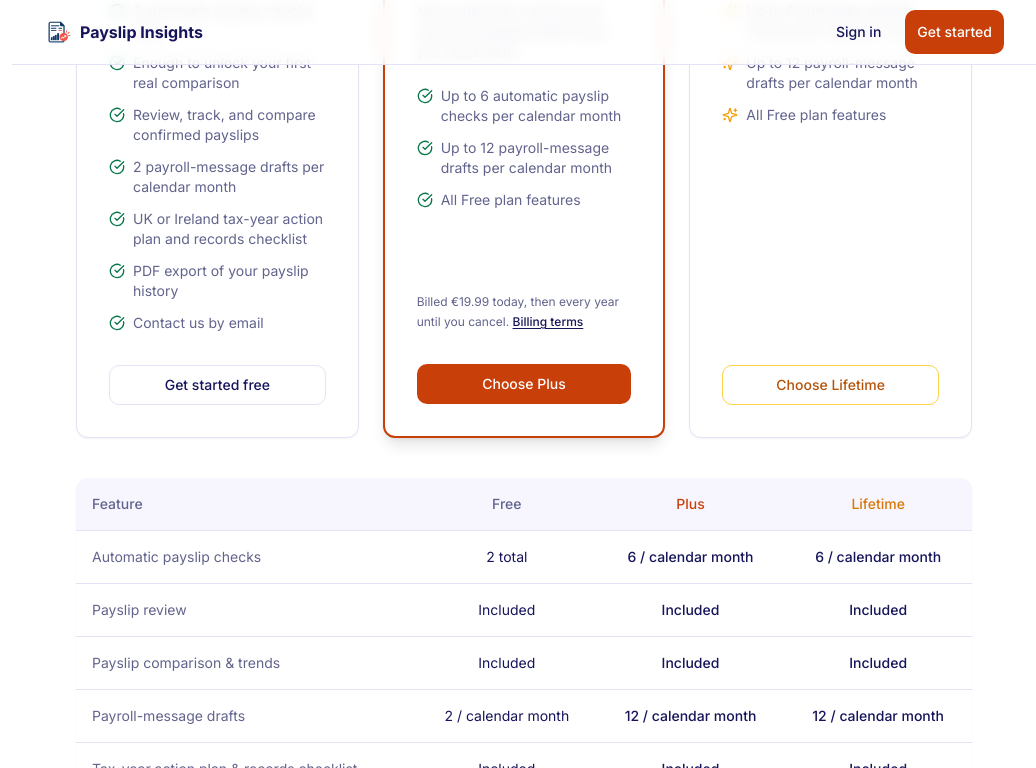
Scenario: Pricing › keeps a guest’s selected paid plan while they create an account
(page scrolled)
Click the button "Choose Plus" at (524, 384), box x1=417 y1=364 x2=631 y2=404
(page scrolled)
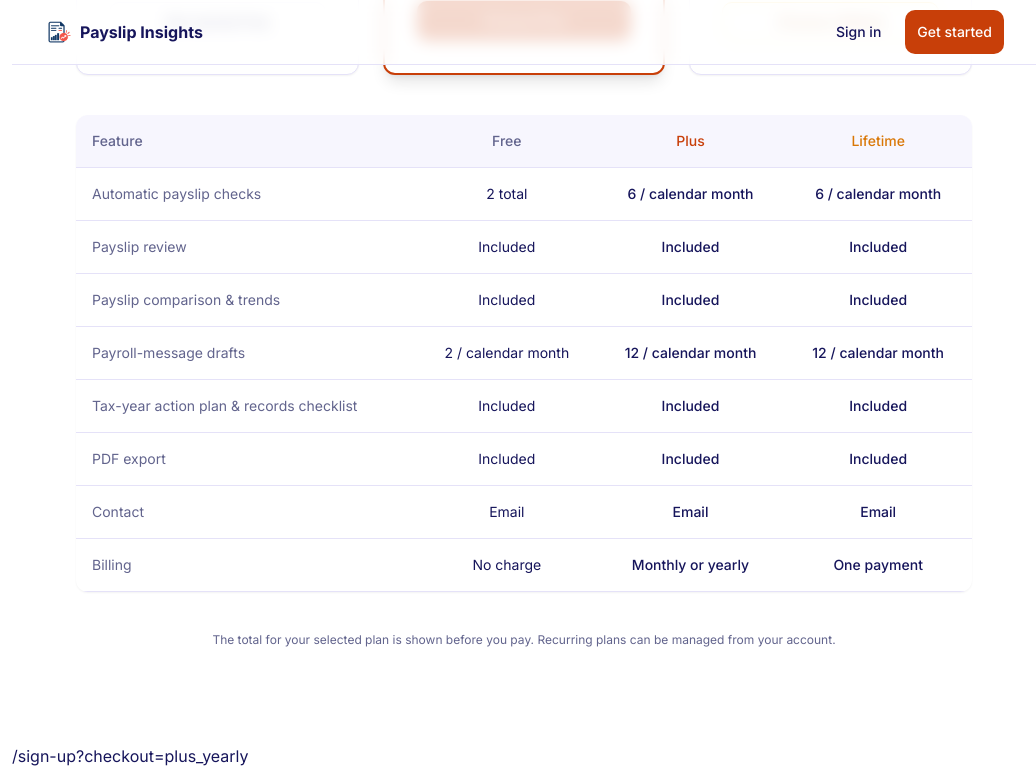
Now the text with test id "location" reads "/sign-up?checkout=plus_yearly", box x1=12 y1=746 x2=248 y2=766
